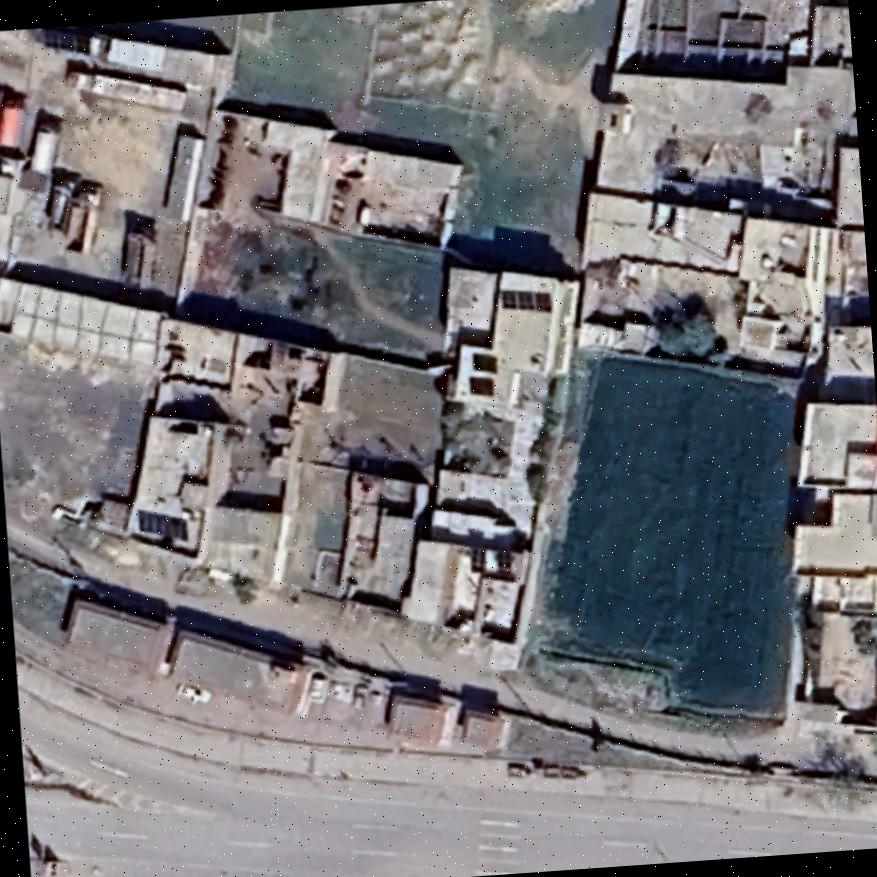Solarpanel: (132, 504, 186, 539), (489, 288, 551, 314)
